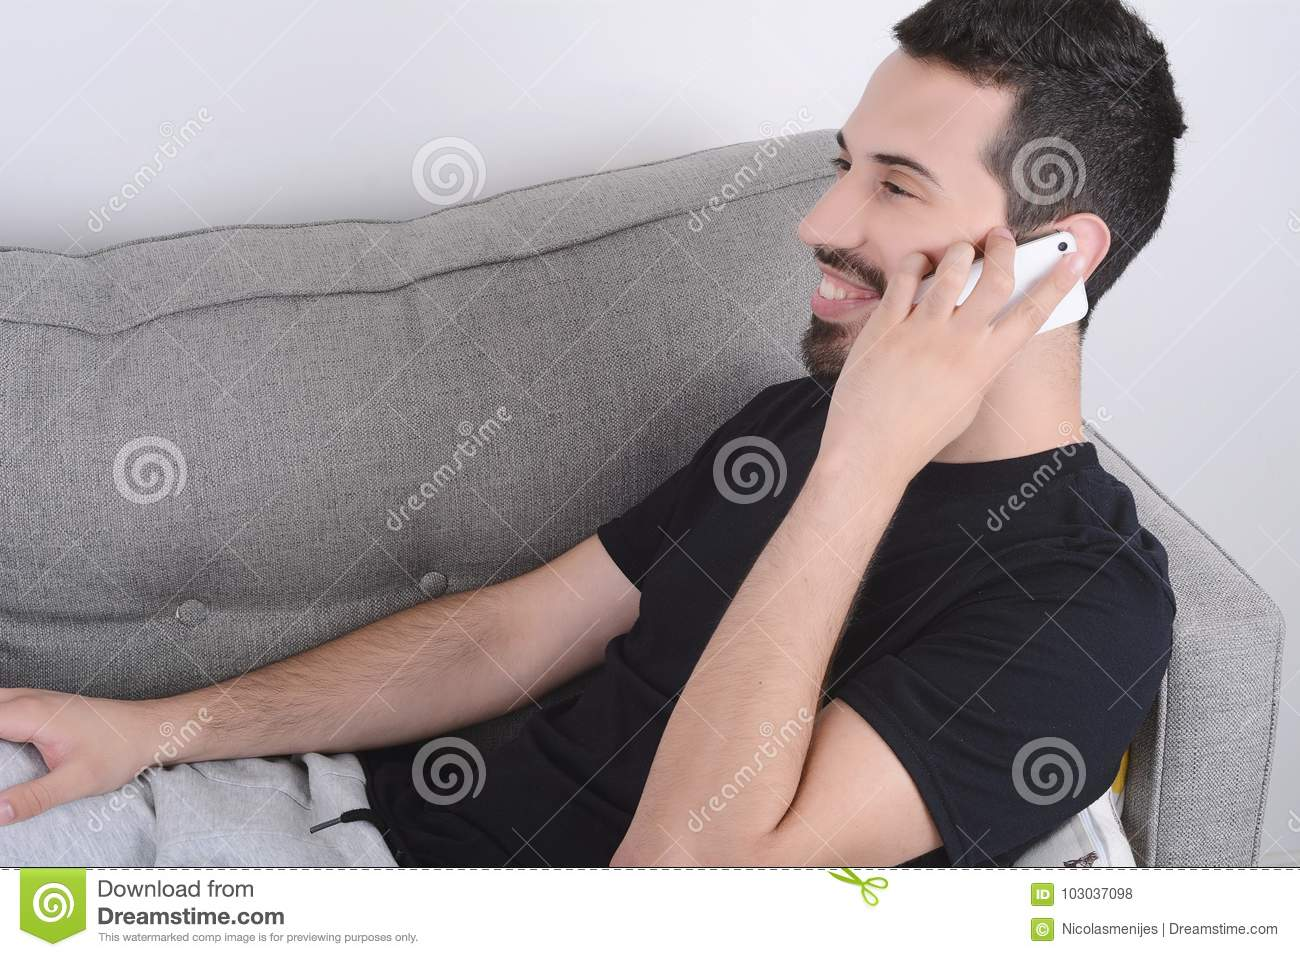phone: (902, 232, 1090, 357)
talk: (799, 119, 1094, 496)
